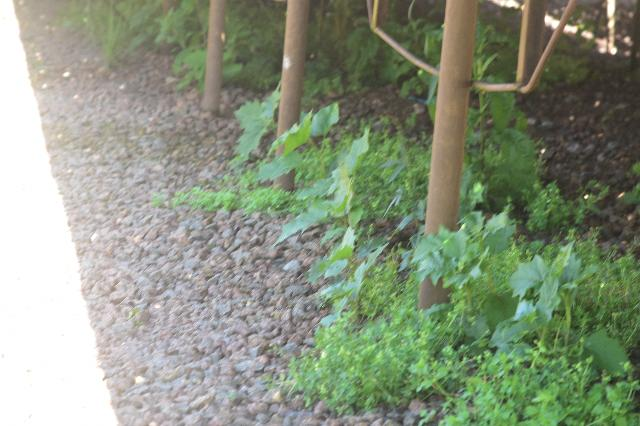MalezaMontesDelPlata: (410, 212, 601, 371), (264, 97, 390, 337), (407, 18, 540, 222), (264, 297, 453, 414), (159, 174, 338, 227), (226, 90, 279, 161)
